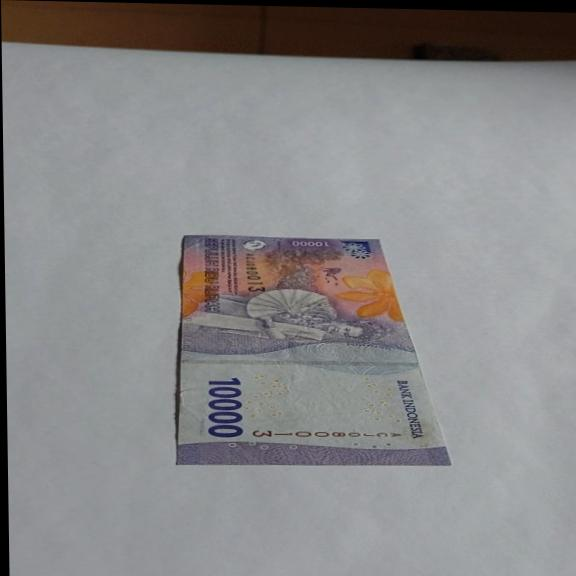Kertas: (171, 233, 453, 471), (205, 376, 245, 439)
